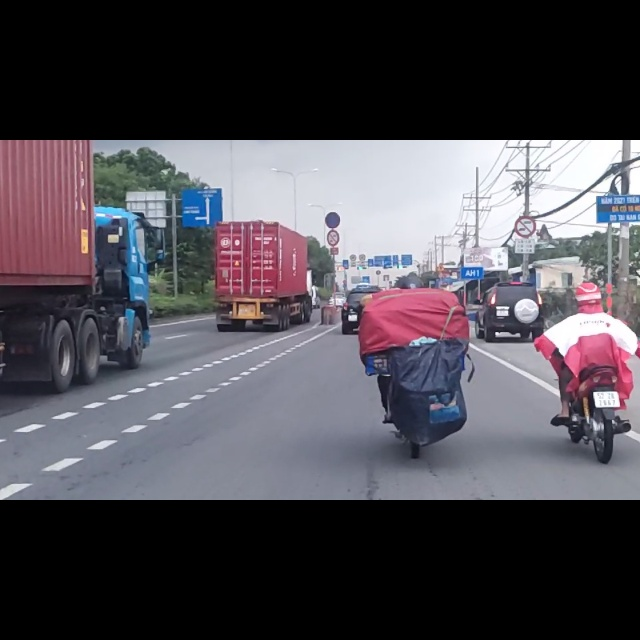bien_hieu_lenh: (515, 135, 537, 174), (325, 127, 341, 156), (327, 159, 339, 190)
